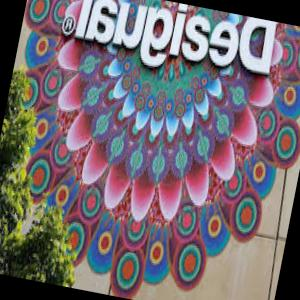desigual: (58, 0, 281, 86)
